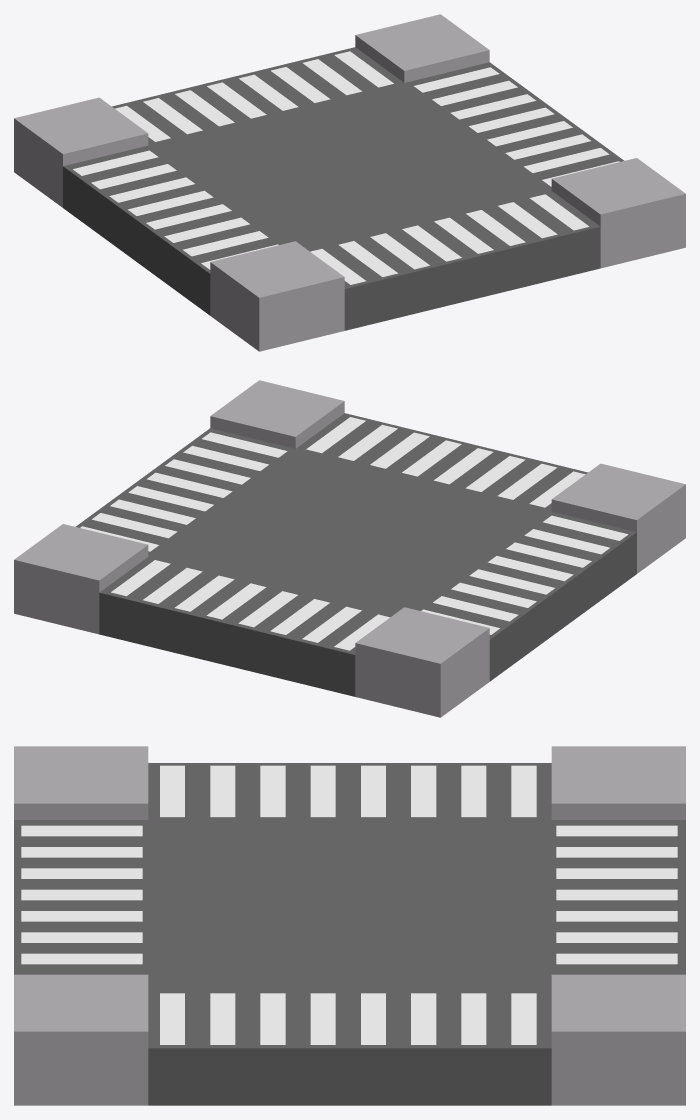
3 views of the same model, one above another, from view 1: azimuth 30°, elevation 25°; view 2: azimuth 150°, elevation 25°; view 3: azimuth 270°, elevation 25° (orthographic). The views are drawn at different scales.
Parts seen in each view (by area): view 1: Road 2; view 2: Road 2; view 3: Road 2.
Part boxes in pixels (box(x1,y1,x2,y2)): Road 2: box(14, 14, 685, 351); Road 2: box(14, 380, 685, 717); Road 2: box(14, 746, 685, 1105).
Bounding box in the file's own units: 2.66 × 0.3215 × 2.65.
1 material, 1 textured.
